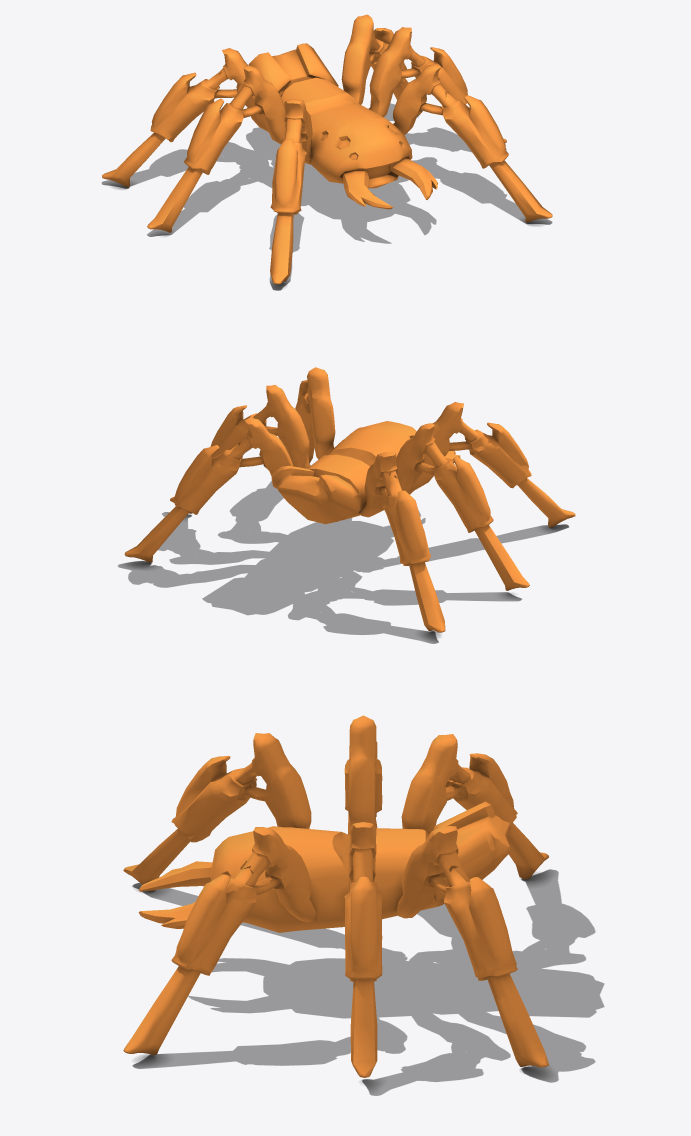
Rendered from 1_bug.glb.
3 renders of one model, top to bottom at view 1: azimuth 30°, elevation 25°; view 2: azimuth 150°, elevation 25°; view 3: azimuth 270°, elevation 25°, orthographic. The views are drawn at different scales.
Visible parts, largest first — view 1: Cube.005, Plane; view 2: Cube.005, Plane; view 3: Cube.005, Plane.
Part boxes in pixels (box(x1,y1,x2,y2)): Cube.005: box(102, 14, 552, 284); Plane: box(102, 103, 552, 290); Cube.005: box(124, 367, 575, 632); Plane: box(118, 481, 568, 643); Cube.005: box(123, 715, 548, 1077); Plane: box(132, 869, 604, 1095).
Bounding box in the file's own units: 6.63 × 2.24 × 6.63.
Materials: 2 (2 with a texture image).
